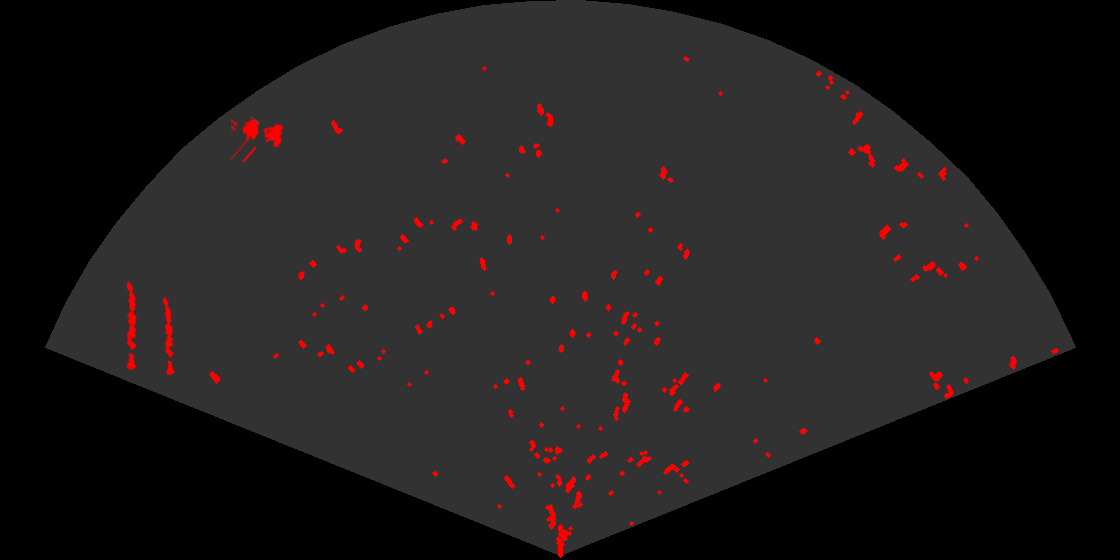cage: (231, 115, 285, 162)
chain: (161, 296, 177, 376), (125, 280, 138, 370)
